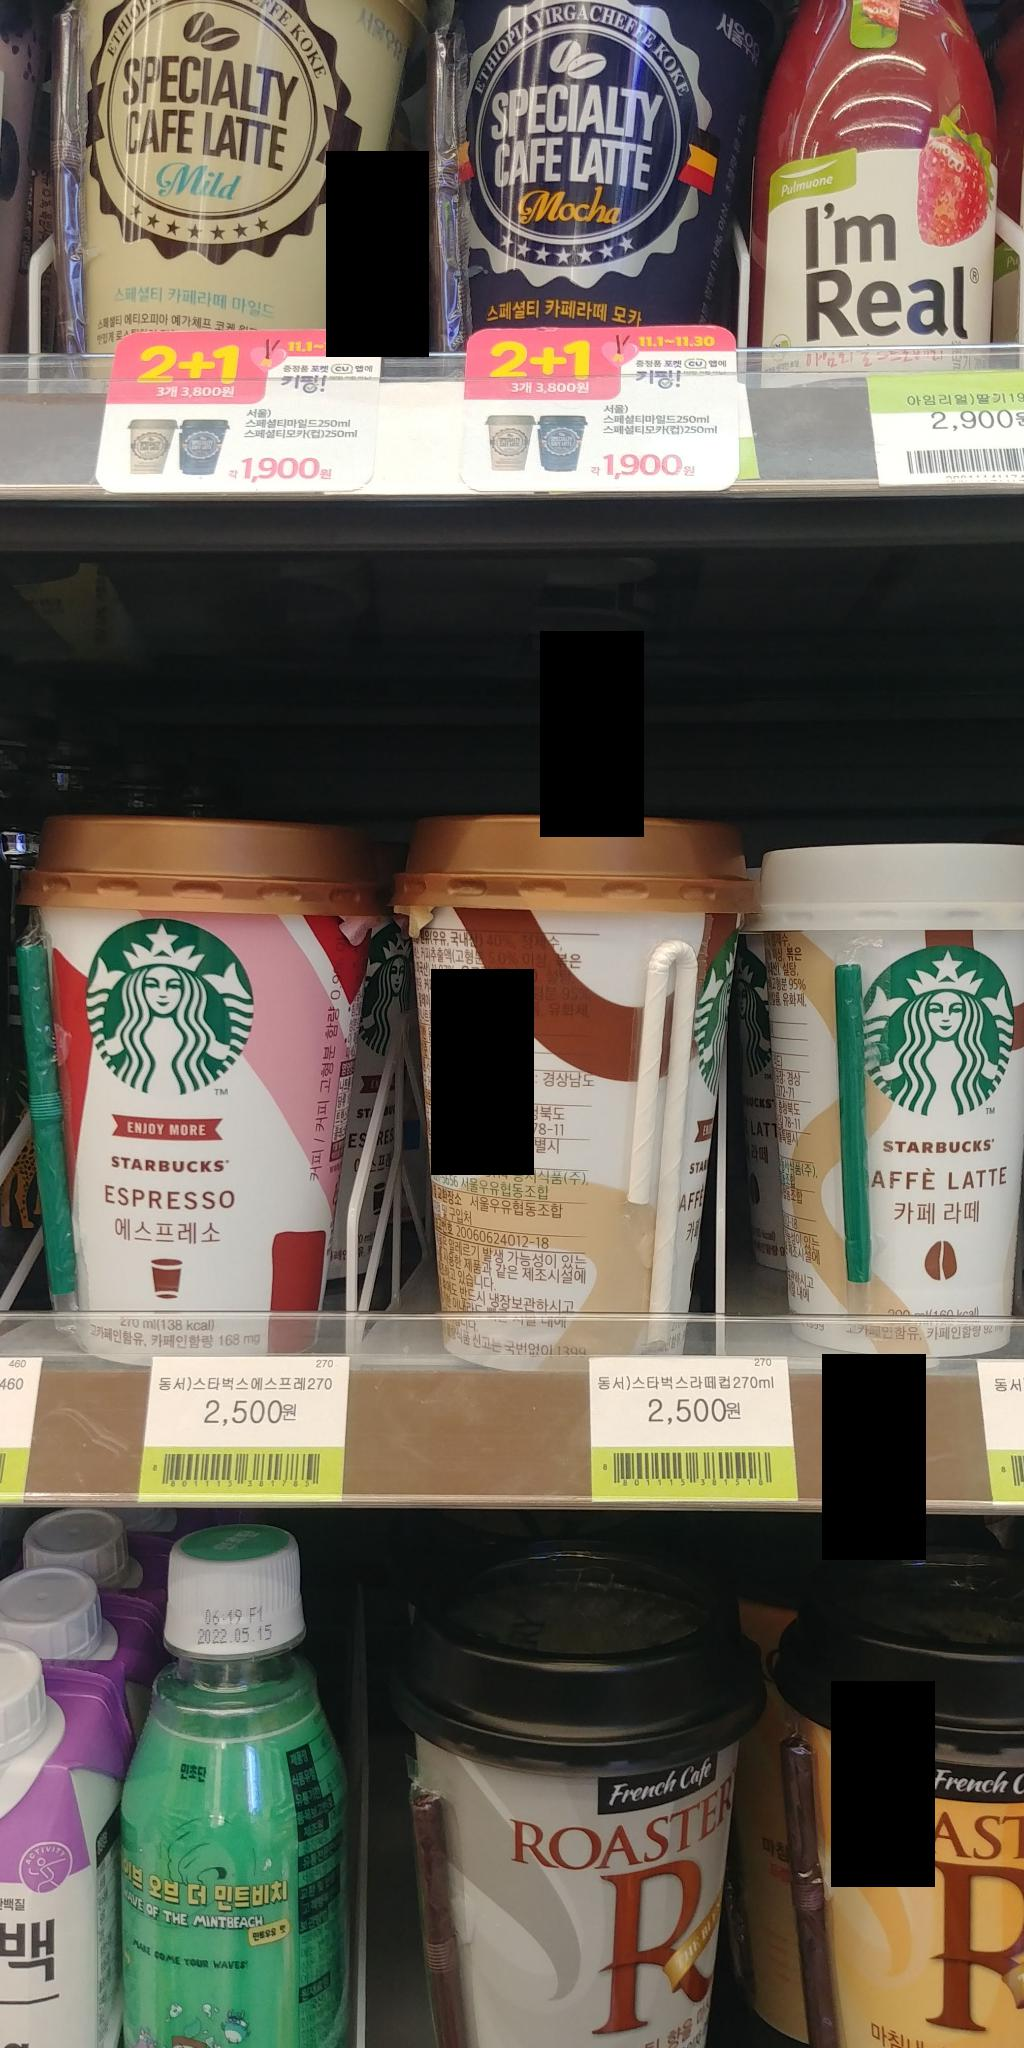starbucks_cafelatte: (410, 788, 743, 1365)
